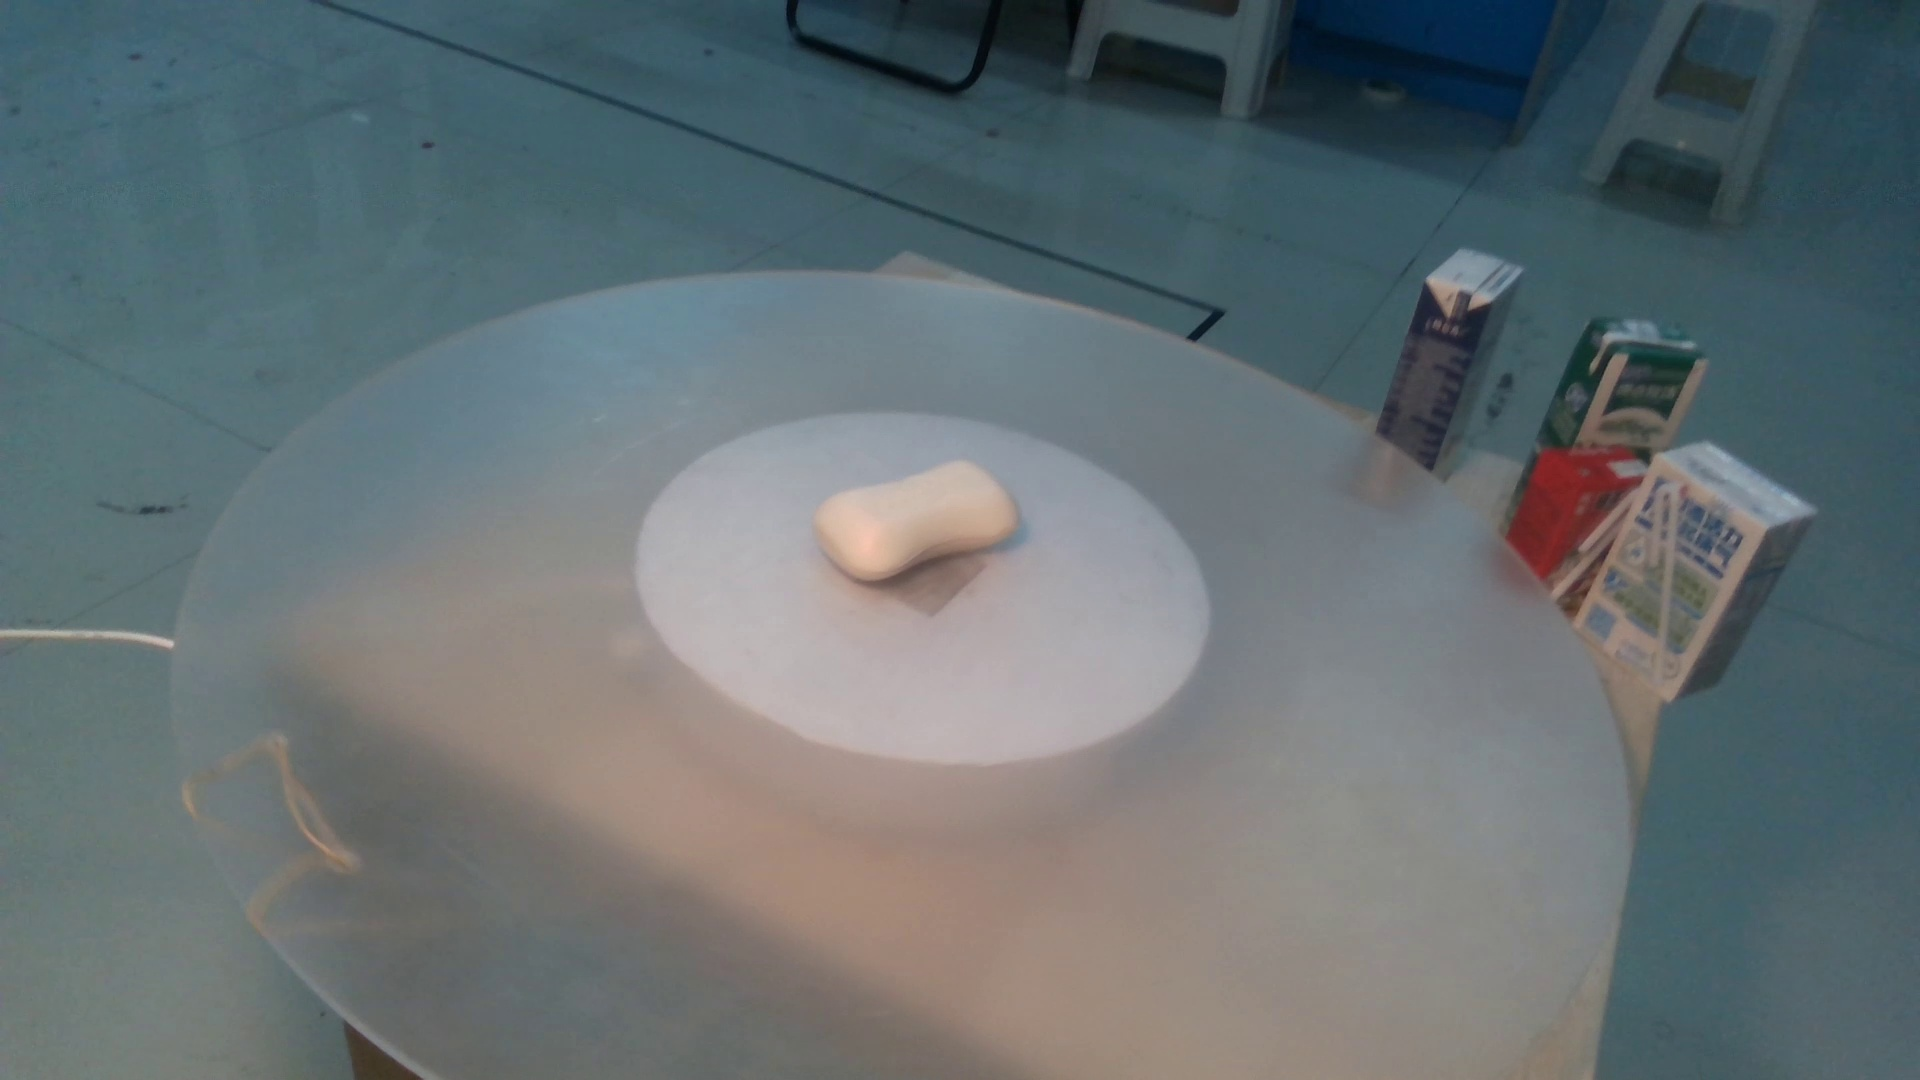CA003_1: (819, 440, 1056, 622)
